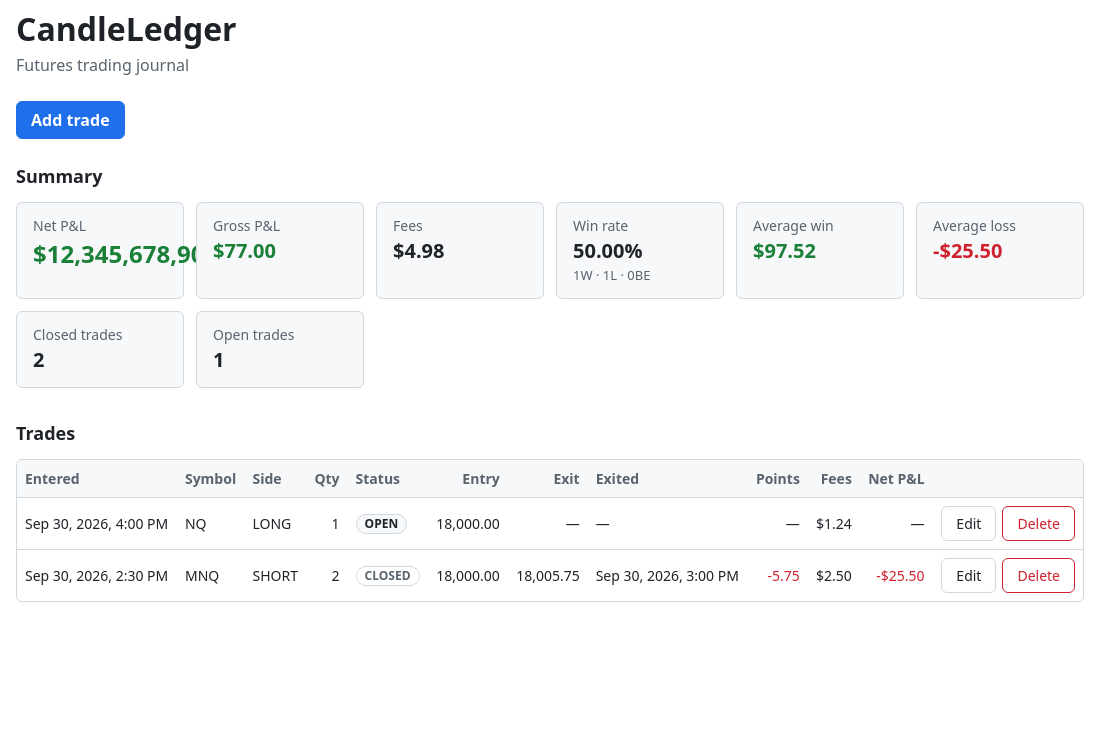
Delete trade › keeps Edit and Delete disabled until the reloaded trades arrive
Expected: the table is shown, [17, 460, 1083, 600]
Click the button with aria-label "Delete MNQ SHORT" at point(1039, 575), box [1002, 558, 1075, 592]
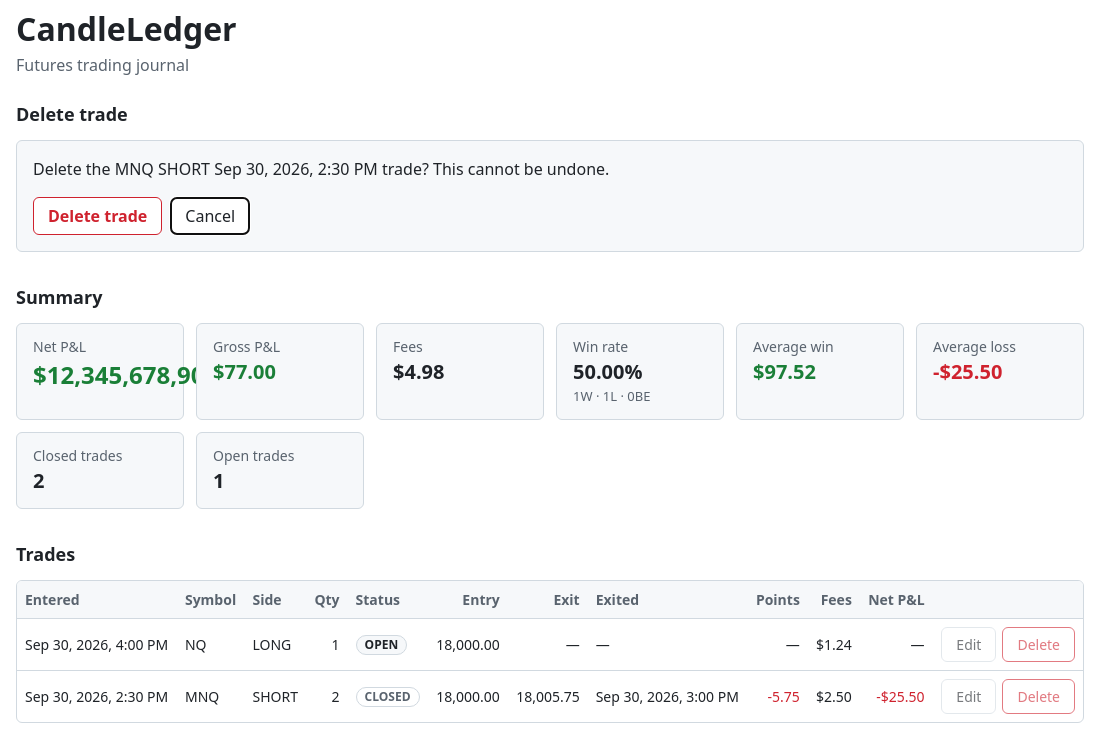
Click the button "Delete trade" at point(98, 216), box [33, 197, 162, 235]
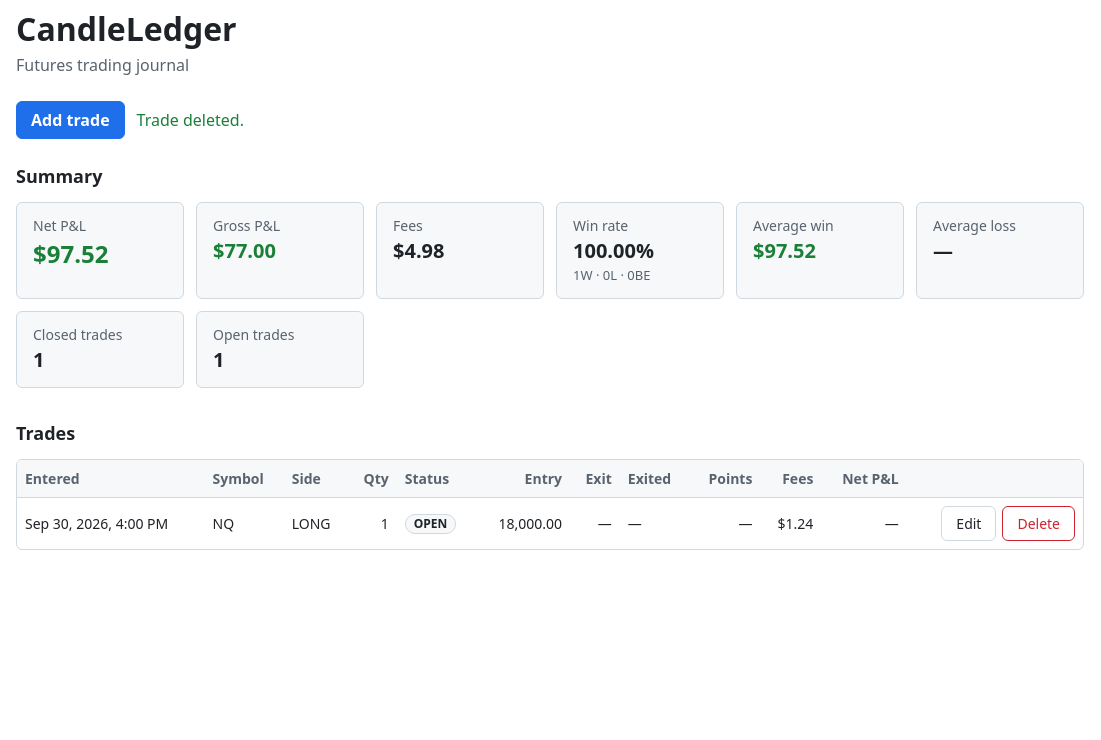
Now the text "Trade deleted." is shown, box [137, 108, 244, 132]
